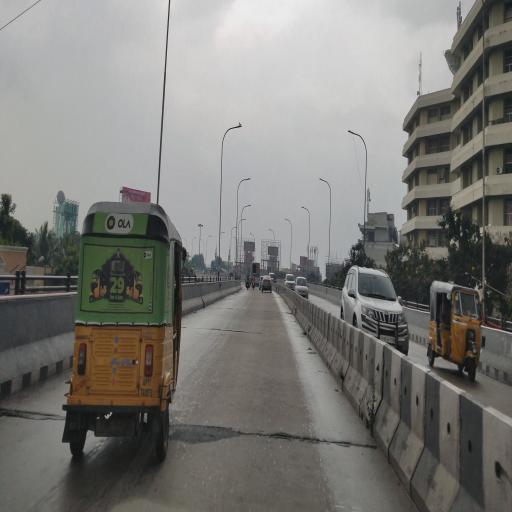street_light_0: (220, 112, 247, 150), (342, 118, 369, 156), (311, 173, 338, 194), (232, 173, 258, 194), (296, 202, 314, 218), (238, 200, 256, 216), (282, 213, 294, 229)
